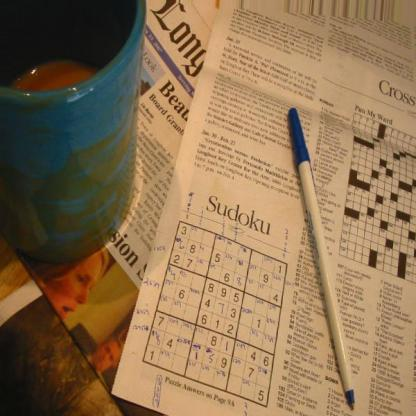sudoku: (141, 217, 290, 411)
